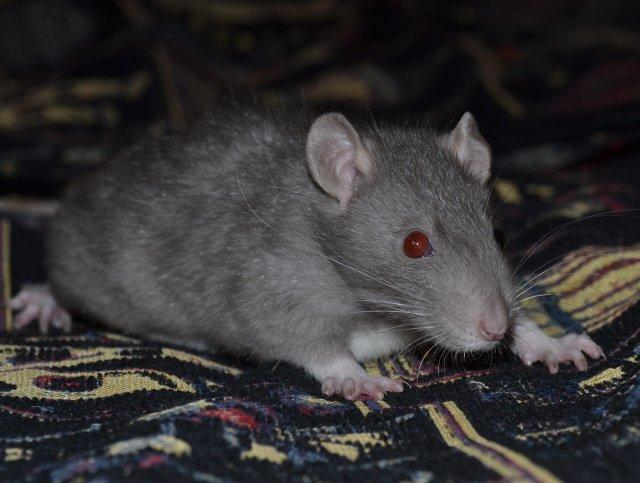rat: (11, 109, 604, 400)
